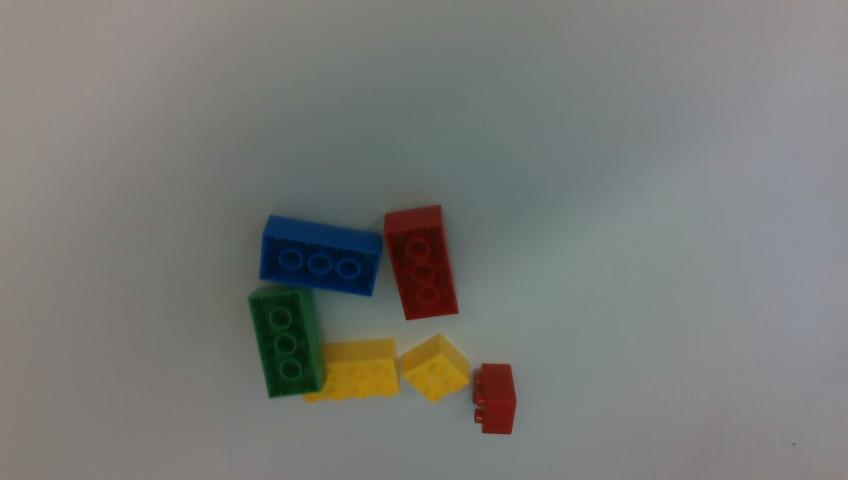2x2_red: (474, 363, 516, 433)
2x2_yellow: (403, 335, 469, 401)
4x2_blue: (259, 215, 382, 296)
4x2_green: (248, 284, 325, 396)
4x2_red: (383, 206, 456, 319)
4x2_yellow: (304, 338, 399, 400)
